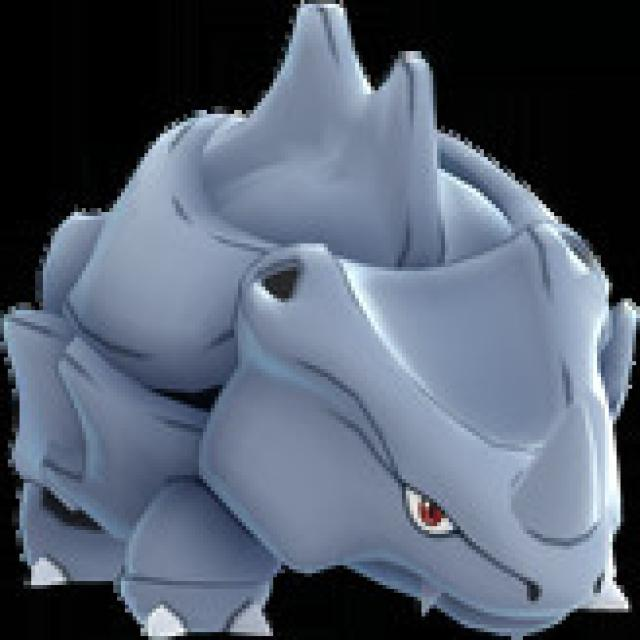Rhyhorn: (22, 57, 635, 640)
